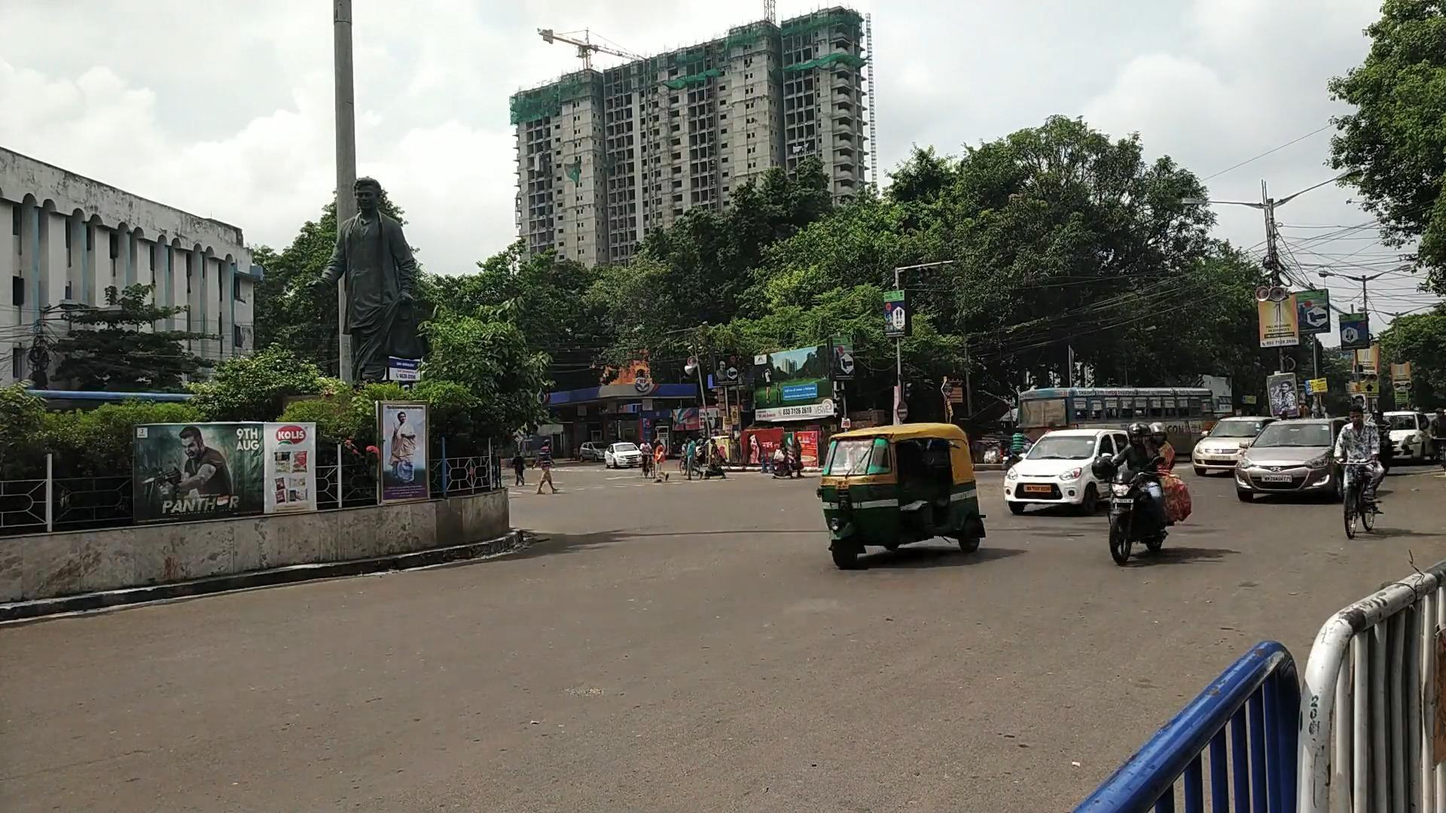bicyclist: (1332, 405, 1385, 540)
driver: (1091, 421, 1191, 565)
helmet: (1127, 421, 1151, 449), (1148, 422, 1167, 446)
no-helmet: (1348, 404, 1364, 427)
